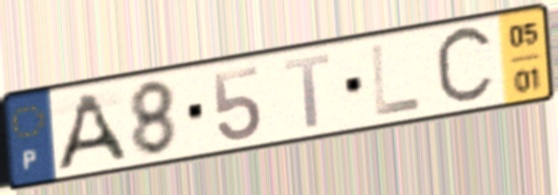5: (209, 62, 265, 143)
8: (125, 77, 182, 160)
A: (52, 89, 131, 175)
C: (431, 20, 498, 112)
L: (368, 41, 425, 121)
T: (280, 50, 334, 132)
